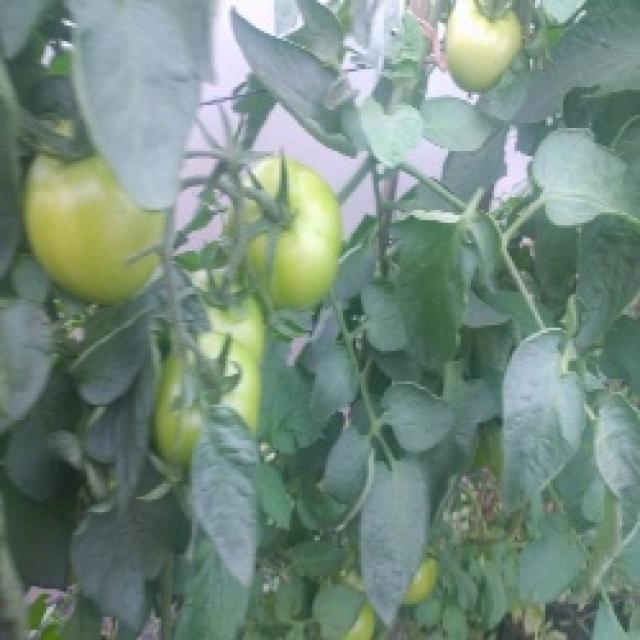tomato: (25, 149, 165, 295), (231, 152, 348, 305), (155, 340, 262, 412), (435, 1, 518, 93), (196, 273, 269, 355)
